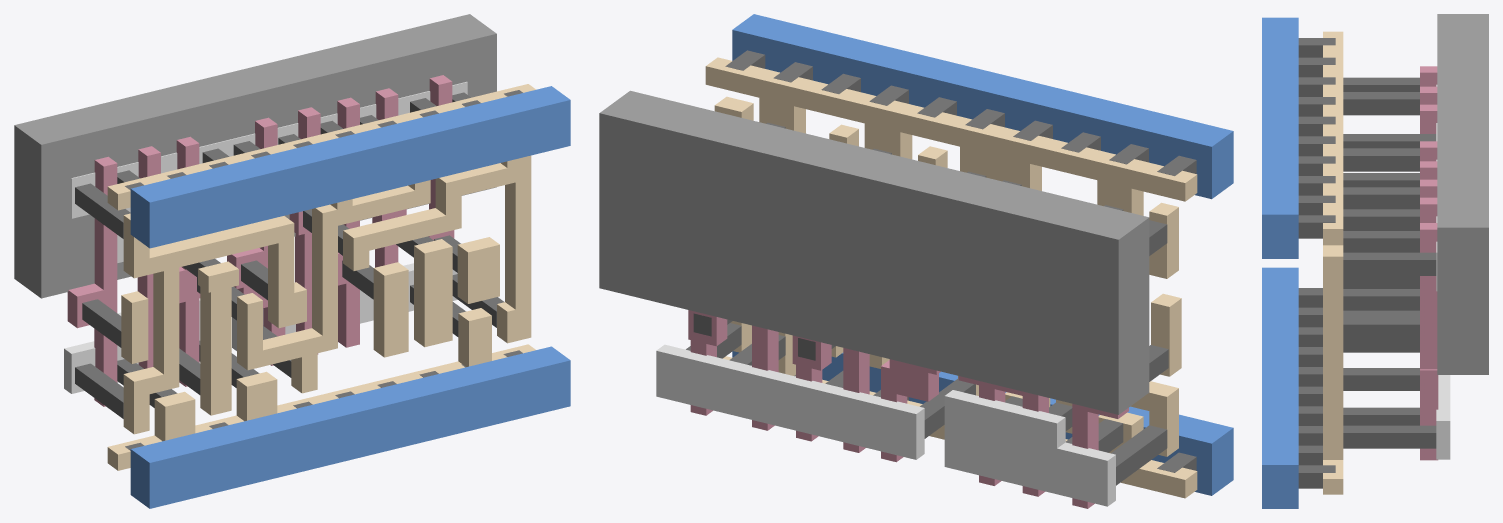
The model's file is sky130_fd_sc_hd__and4bb_2.gds.gltf.
The picture shows the model from 3 angles, left to right: view 1: azimuth 30°, elevation 25°; view 2: azimuth 150°, elevation 25°; view 3: azimuth 270°, elevation 25°; orthographic projection. The views are drawn at different scales.
Parts seen in each view (by area): view 1: sky130_fd_sc_hd__and4bb_2_li1, sky130_fd_sc_hd__and4bb_2_met1, sky130_fd_sc_hd__and4bb_2_nwell, sky130_fd_sc_hd__and4bb_2_poly, sky130_fd_sc_hd__and4bb_2_licon, sky130_fd_sc_hd__and4bb_2_diff, sky130_fd_sc_hd__and4bb_2_mcon; view 2: sky130_fd_sc_hd__and4bb_2_nwell, sky130_fd_sc_hd__and4bb_2_li1, sky130_fd_sc_hd__and4bb_2_met1, sky130_fd_sc_hd__and4bb_2_diff, sky130_fd_sc_hd__and4bb_2_poly, sky130_fd_sc_hd__and4bb_2_licon, sky130_fd_sc_hd__and4bb_2_mcon; view 3: sky130_fd_sc_hd__and4bb_2_licon, sky130_fd_sc_hd__and4bb_2_nwell, sky130_fd_sc_hd__and4bb_2_met1, sky130_fd_sc_hd__and4bb_2_mcon, sky130_fd_sc_hd__and4bb_2_li1, sky130_fd_sc_hd__and4bb_2_poly, sky130_fd_sc_hd__and4bb_2_diff.
Part boxes in pixels (x1,y1,x2,y2): sky130_fd_sc_hd__and4bb_2_li1: (107, 84, 535, 470); sky130_fd_sc_hd__and4bb_2_met1: (130, 86, 570, 508); sky130_fd_sc_hd__and4bb_2_nwell: (14, 14, 496, 298); sky130_fd_sc_hd__and4bb_2_poly: (67, 75, 454, 406); sky130_fd_sc_hd__and4bb_2_licon: (75, 92, 504, 418); sky130_fd_sc_hd__and4bb_2_diff: (64, 81, 467, 393); sky130_fd_sc_hd__and4bb_2_mcon: (125, 90, 522, 450); sky130_fd_sc_hd__and4bb_2_nwell: (599, 90, 1149, 414); sky130_fd_sc_hd__and4bb_2_li1: (705, 57, 1197, 498); sky130_fd_sc_hd__and4bb_2_met1: (732, 14, 1233, 495); sky130_fd_sc_hd__and4bb_2_diff: (656, 344, 1115, 506); sky130_fd_sc_hd__and4bb_2_poly: (688, 310, 1128, 508); sky130_fd_sc_hd__and4bb_2_licon: (686, 122, 1168, 485); sky130_fd_sc_hd__and4bb_2_mcon: (725, 50, 1196, 472); sky130_fd_sc_hd__and4bb_2_licon: (1343, 77, 1436, 448); sky130_fd_sc_hd__and4bb_2_nwell: (1437, 14, 1488, 374); sky130_fd_sc_hd__and4bb_2_met1: (1262, 17, 1298, 508); sky130_fd_sc_hd__and4bb_2_mcon: (1298, 38, 1335, 488); sky130_fd_sc_hd__and4bb_2_li1: (1323, 31, 1343, 494); sky130_fd_sc_hd__and4bb_2_poly: (1420, 66, 1438, 460); sky130_fd_sc_hd__and4bb_2_diff: (1436, 84, 1450, 459).
Bounding box in the file's own units: 4.98 × 3.2 × 2.24.
